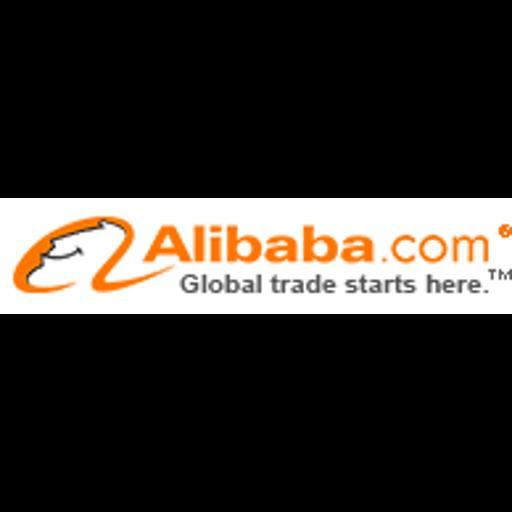Alibaba: (0, 198, 512, 314)
